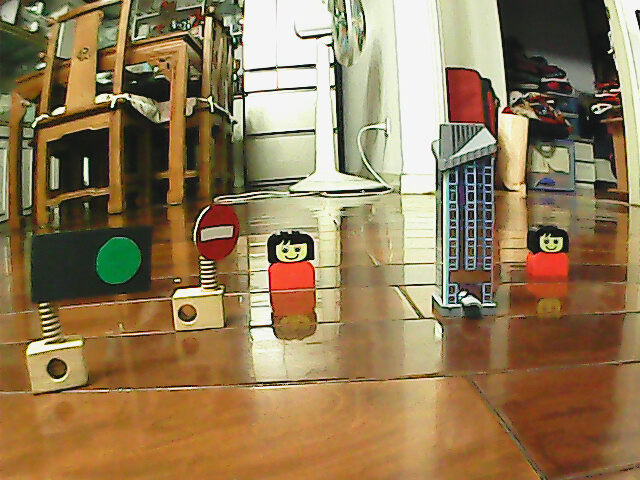Green Traffic Light: (92, 233, 147, 289)
Person: (264, 228, 319, 292), (523, 221, 571, 280)
Stop Sign: (191, 200, 242, 263)
